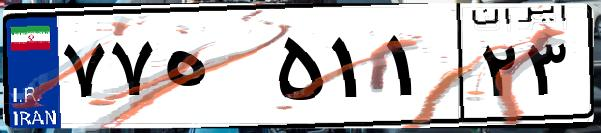1: (385, 28, 445, 110), (330, 28, 385, 110)
2: (475, 38, 525, 113)
3: (525, 38, 570, 115)
5: (270, 28, 330, 110)
7: (57, 26, 110, 100), (110, 28, 158, 98)
ه: (158, 20, 270, 120)
